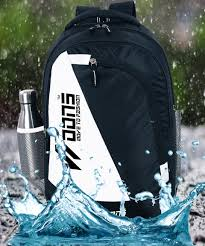bag: (41, 6, 181, 213)
